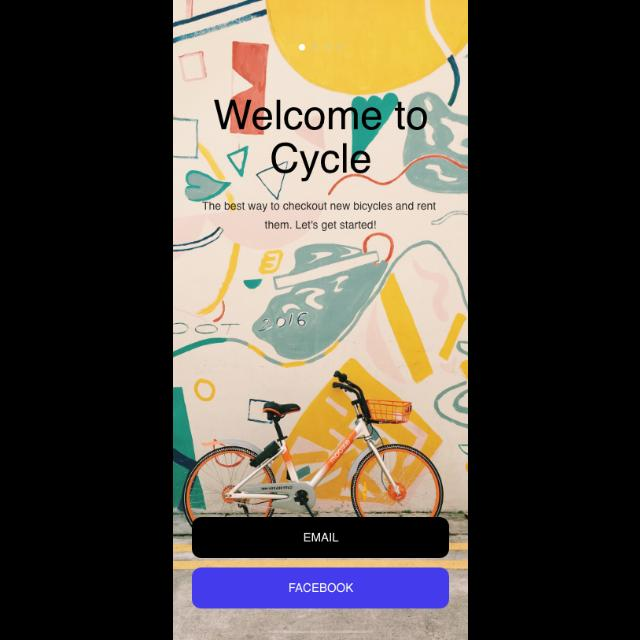backgroundimage: (173, 1, 467, 640)
text: (213, 100, 427, 182), (202, 202, 436, 232)
textbutton: (192, 518, 448, 558), (192, 568, 448, 608)
